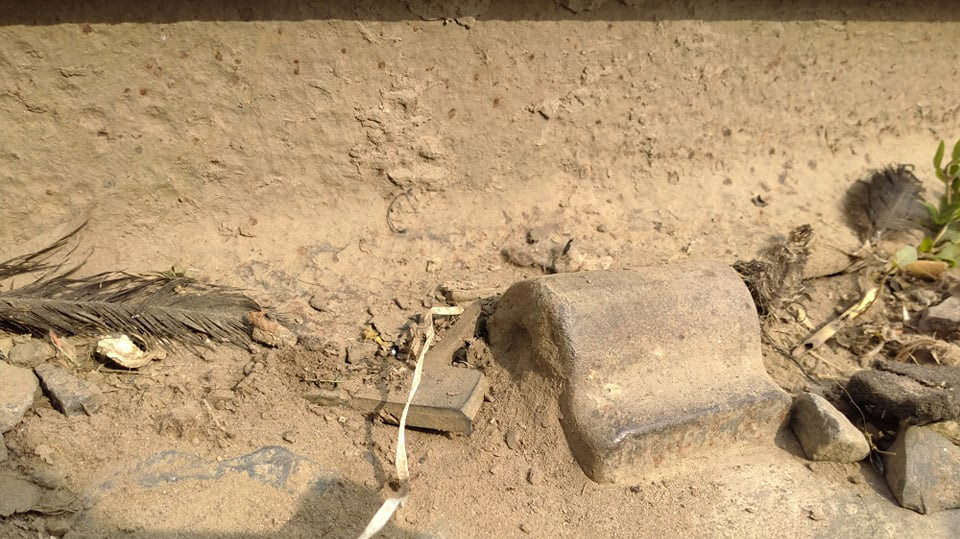error1: (493, 223, 814, 497)
